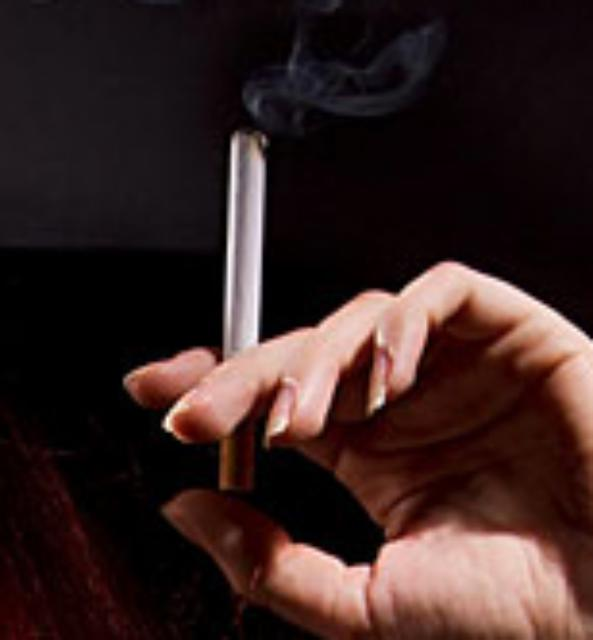Cigarette: (208, 117, 270, 490)
